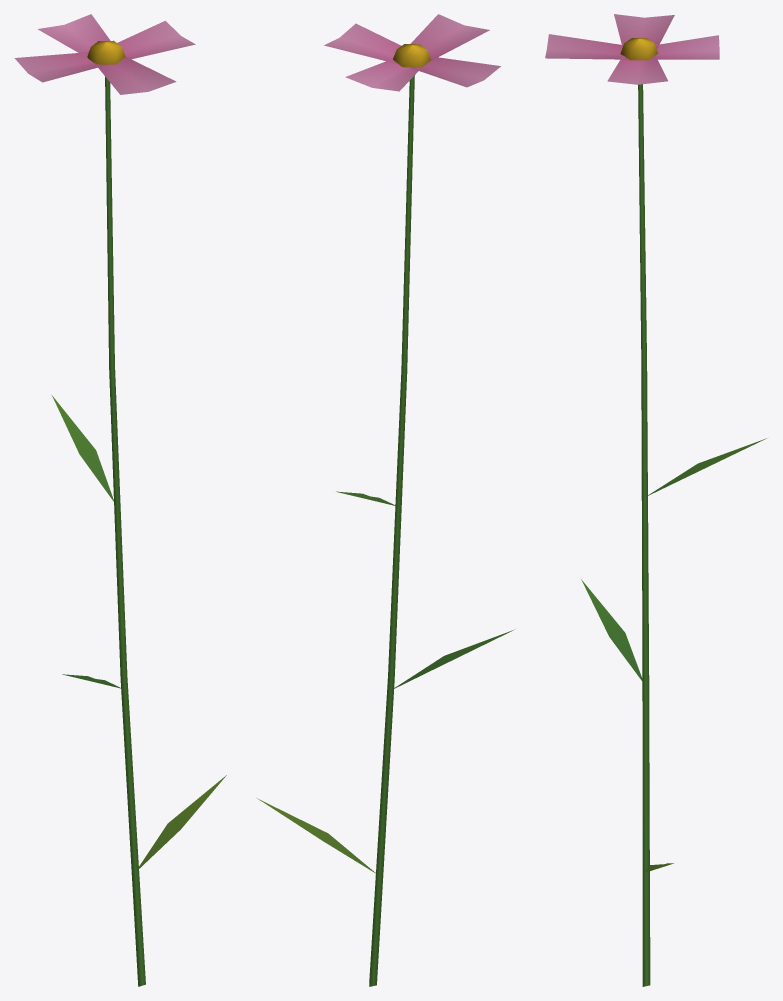
Rendered from flower-cosmos-a.lod1.glb.
The picture shows the model from 3 angles, left to right: view 1: azimuth 30°, elevation 25°; view 2: azimuth 150°, elevation 25°; view 3: azimuth 270°, elevation 25°; orthographic projection. The views are drawn at different scales.
Parts seen in each view (by area): view 1: flower-cosmos-a.lod1; view 2: flower-cosmos-a.lod1; view 3: flower-cosmos-a.lod1.
Part boxes in pixels (x1,y1,x2,y2): flower-cosmos-a.lod1: [14, 14, 226, 986]; flower-cosmos-a.lod1: [257, 14, 514, 986]; flower-cosmos-a.lod1: [545, 14, 766, 986].
Size of the model in its own units: 0.1346 by 0.5676 by 0.124.
